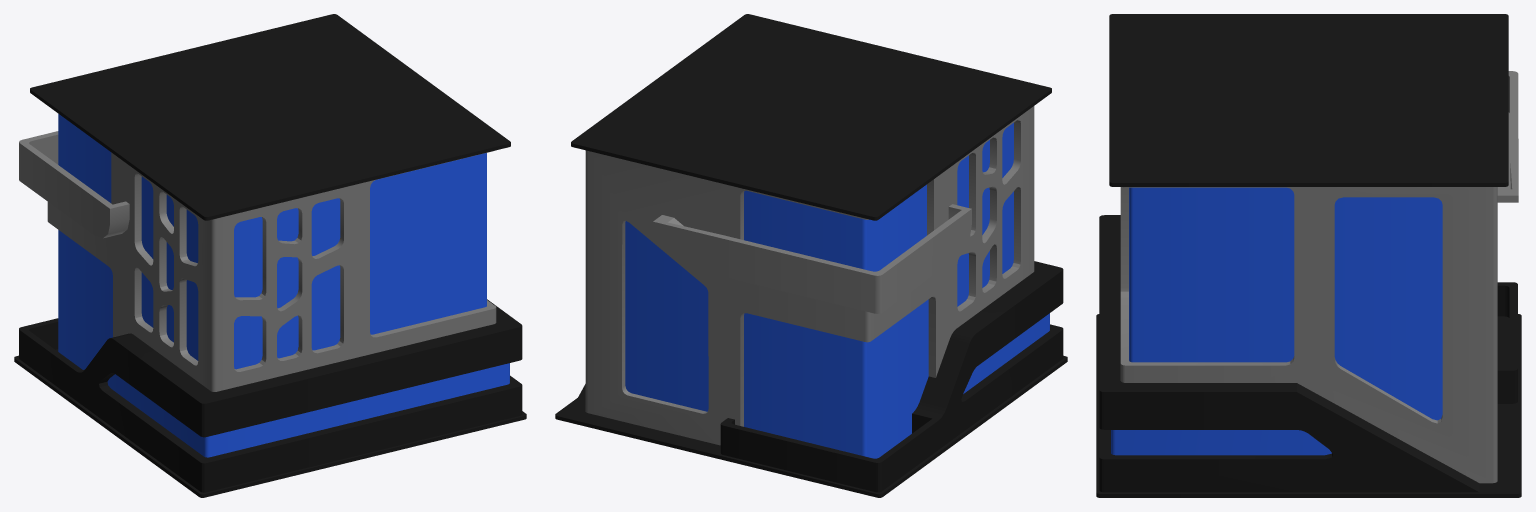
Rendered from SM_B_Simple_02.fbx.
3 renders of one model, left to right at view 1: azimuth 30°, elevation 25°; view 2: azimuth 150°, elevation 25°; view 3: azimuth 270°, elevation 25°, orthographic. The views are drawn at different scales.
Parts seen in each view (by area): view 1: SM_B_Simple_02; view 2: SM_B_Simple_02; view 3: SM_B_Simple_02.
Part boxes in pixels (left/top/right/bottom): SM_B_Simple_02: left=14, top=14, right=526, bottom=497; SM_B_Simple_02: left=555, top=14, right=1067, bottom=497; SM_B_Simple_02: left=1096, top=14, right=1521, bottom=497.
Size of the model in its own units: 2101 by 1683 by 2097.
